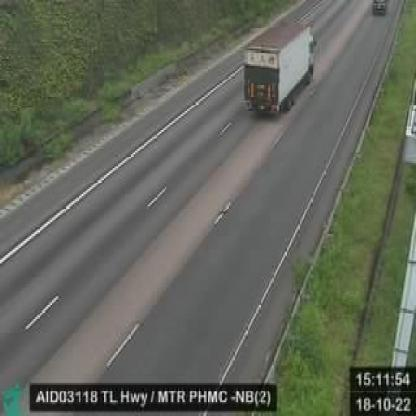Car: (371, 0, 390, 15)
Truck: (242, 24, 318, 118)
